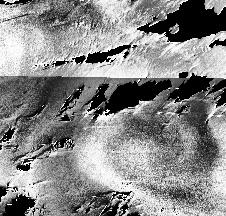AE: (73, 102, 217, 206)
